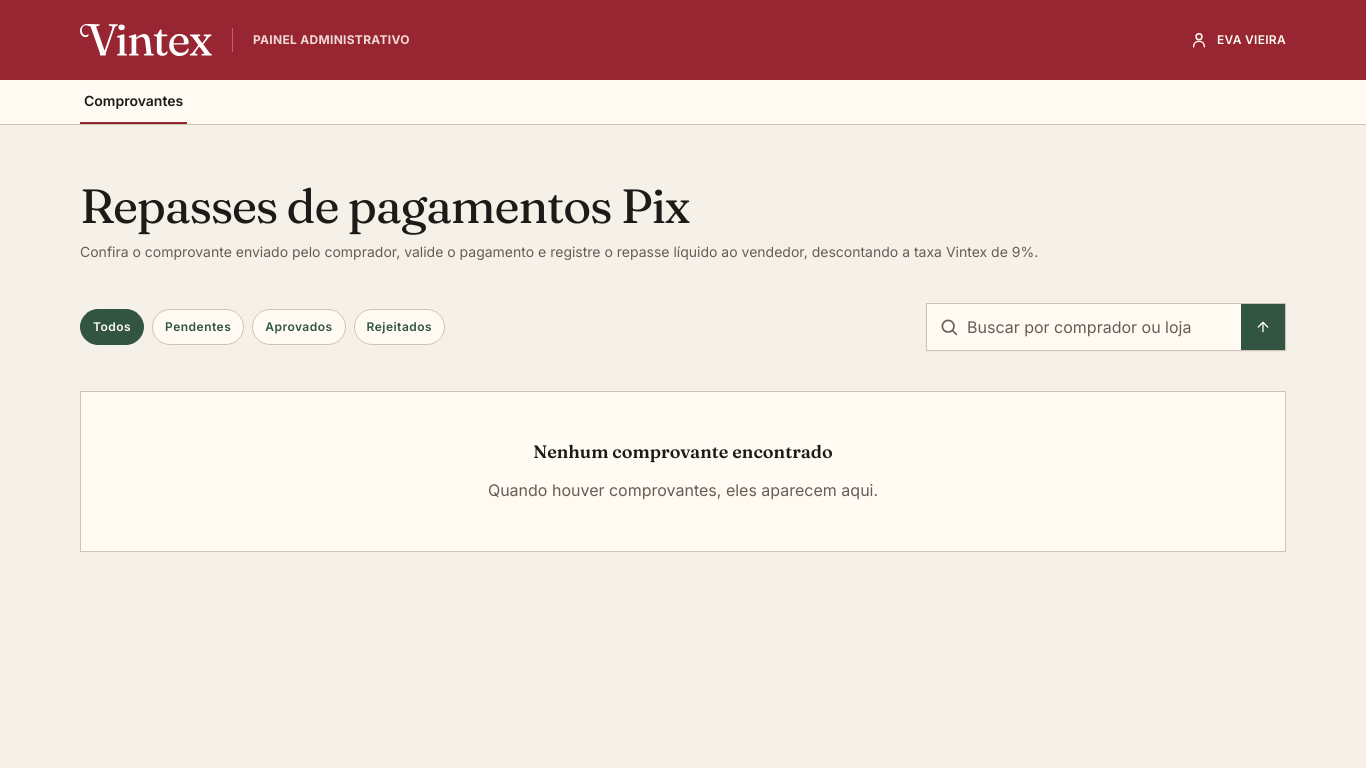
Test: <ReceiptQueue /> › fila pendente vazia: "Nenhum comprovante pendente"
Check: the text "Nenhum comprovante encontrado" is shown, box [533, 440, 833, 465]
Click the button "Pendentes": [198, 327] box [152, 309, 244, 345]
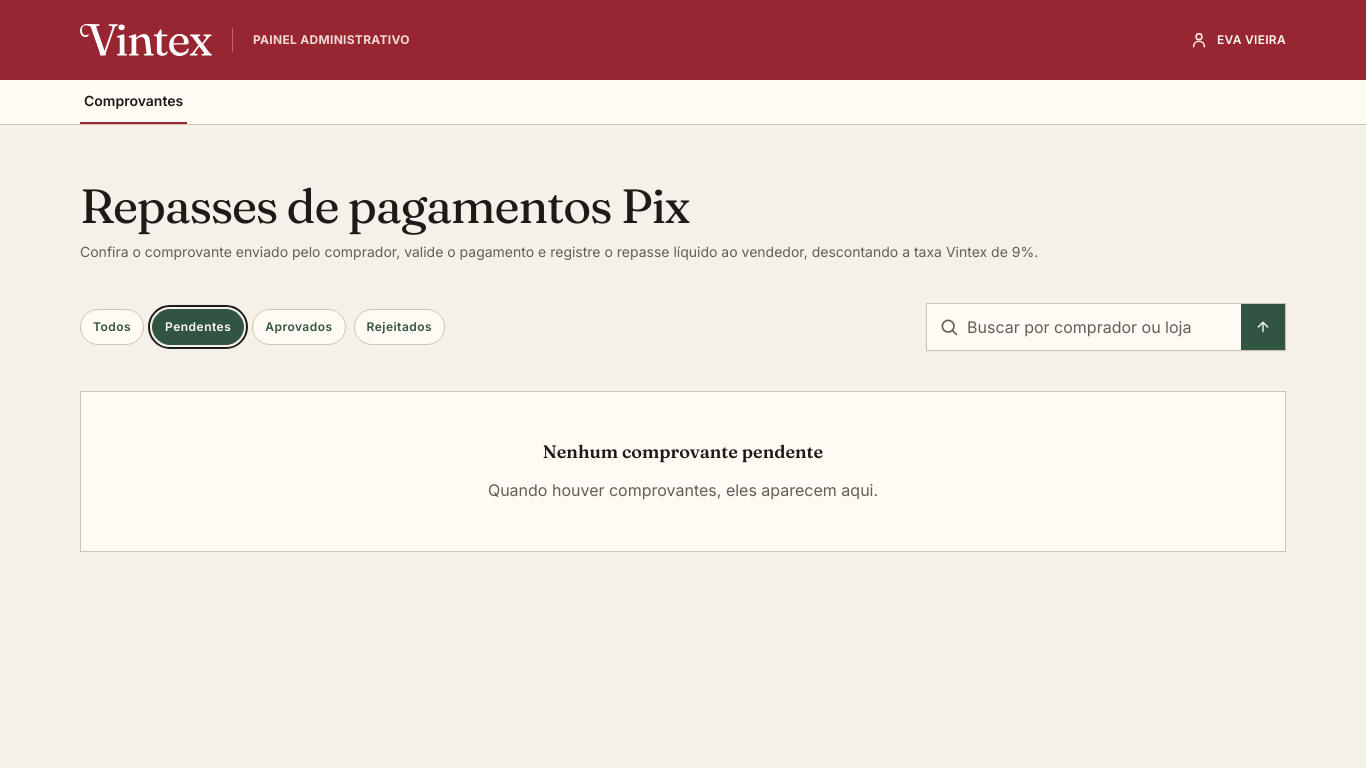
Check: the text "Nenhum comprovante pendente" is shown, box [543, 440, 823, 465]
